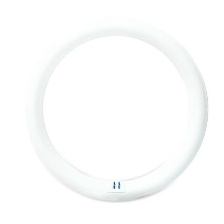light_bulb: (21, 19, 212, 207)
